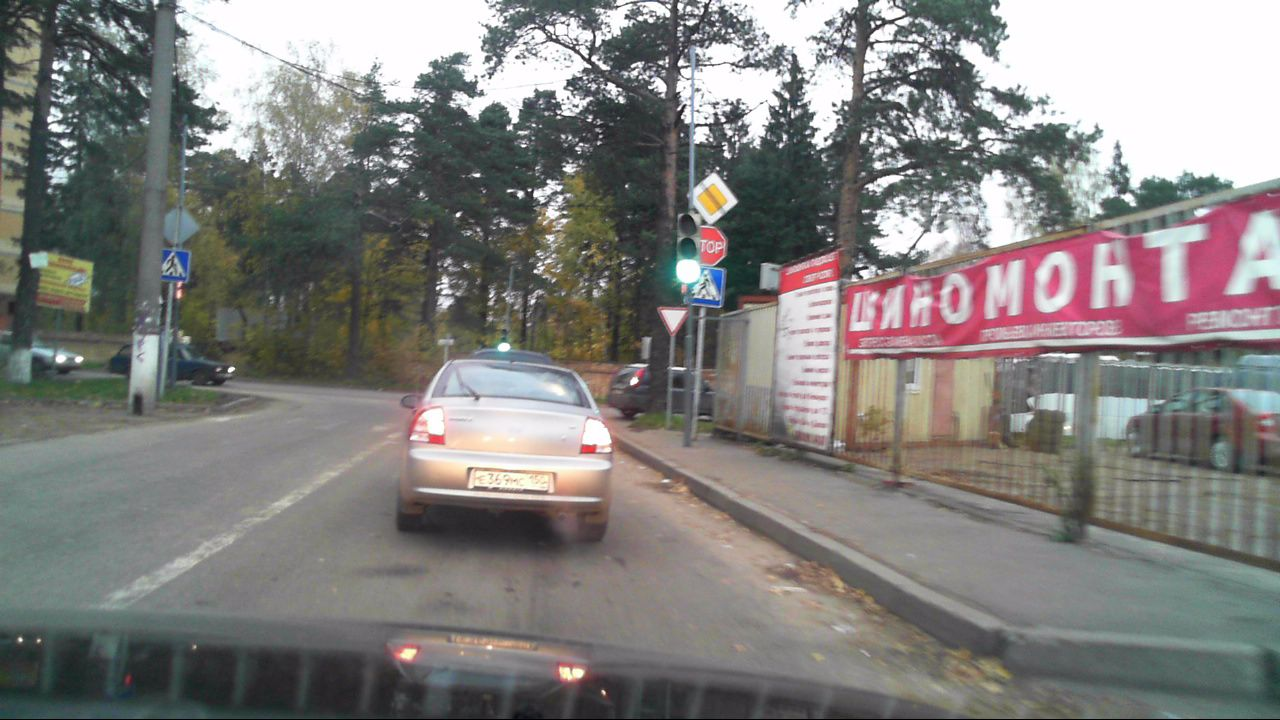main road: (687, 173, 736, 226)
